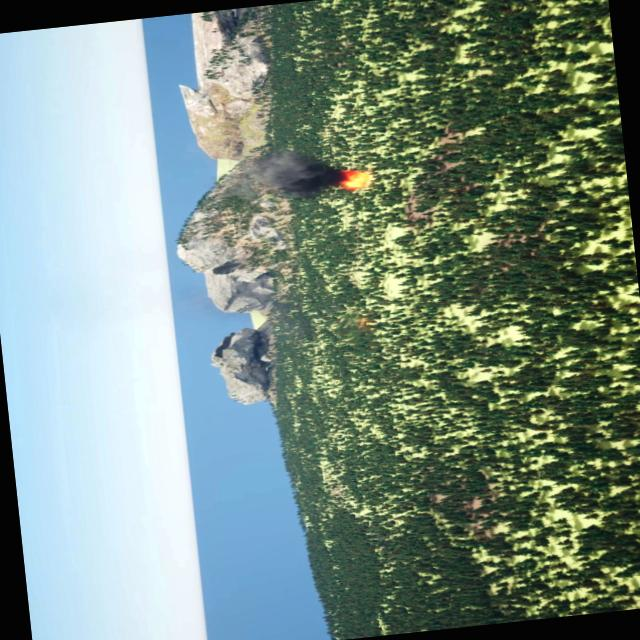fire: (336, 163, 366, 190)
smoke: (250, 146, 336, 200)
